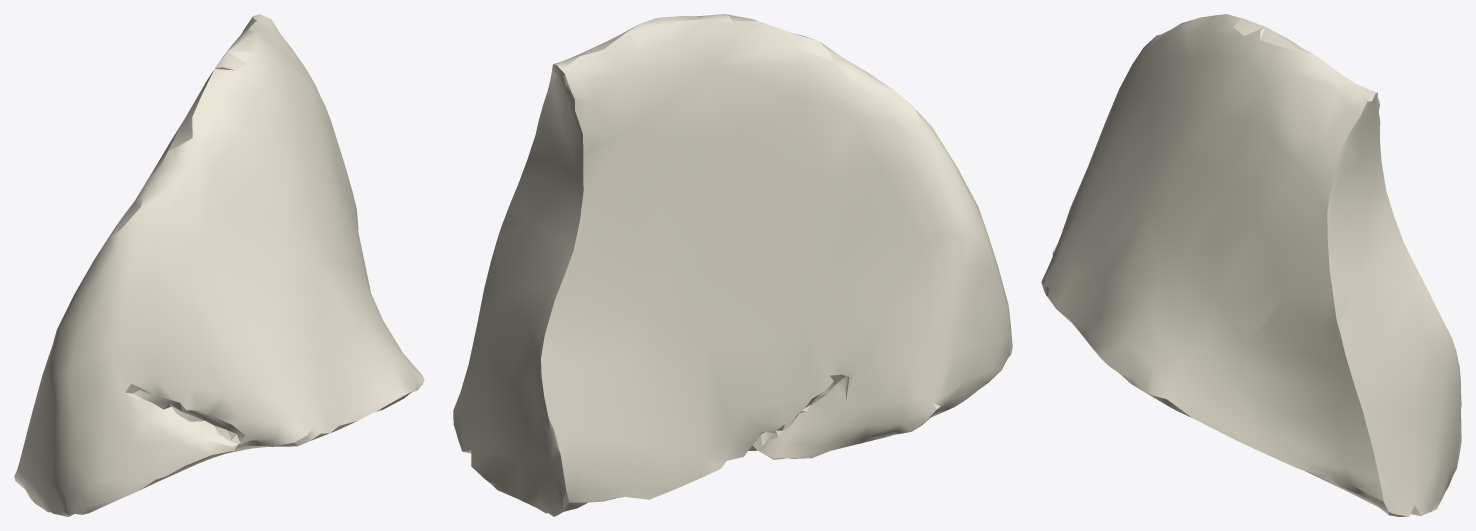
Rendered from fma16151_mm2332.glb.
3 renders of one model, left to right at view 1: azimuth 30°, elevation 25°; view 2: azimuth 150°, elevation 25°; view 3: azimuth 270°, elevation 25°, orthographic. The views are drawn at different scales.
Visible parts, largest first — view 1: FMA16151_MM2332; view 2: FMA16151_MM2332; view 3: FMA16151_MM2332.
Part boxes in pixels (x1=…): FMA16151_MM2332: x1=14, y1=14, x2=424, y2=516; FMA16151_MM2332: x1=453, y1=14, x2=1012, y2=516; FMA16151_MM2332: x1=1041, y1=14, x2=1461, y2=516.
Bounding box in the file's own units: 0.0141 × 0.0141 × 0.0123.
